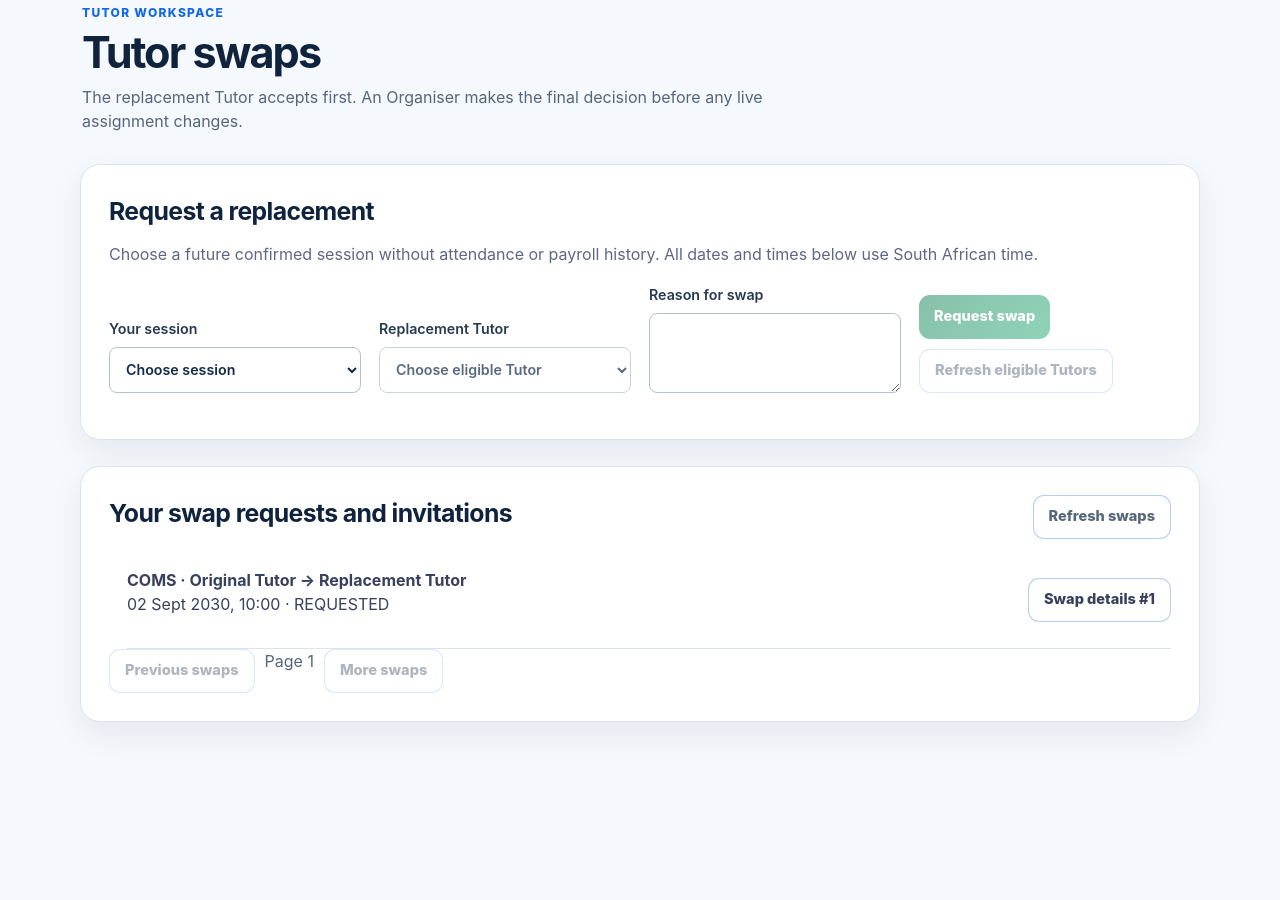
lets only the addressed replacement accept or decline and records the current version
Click the button "Swap details #1" at point(1100, 600), box left=1028, top=578, right=1171, bottom=622
(page scrolled)
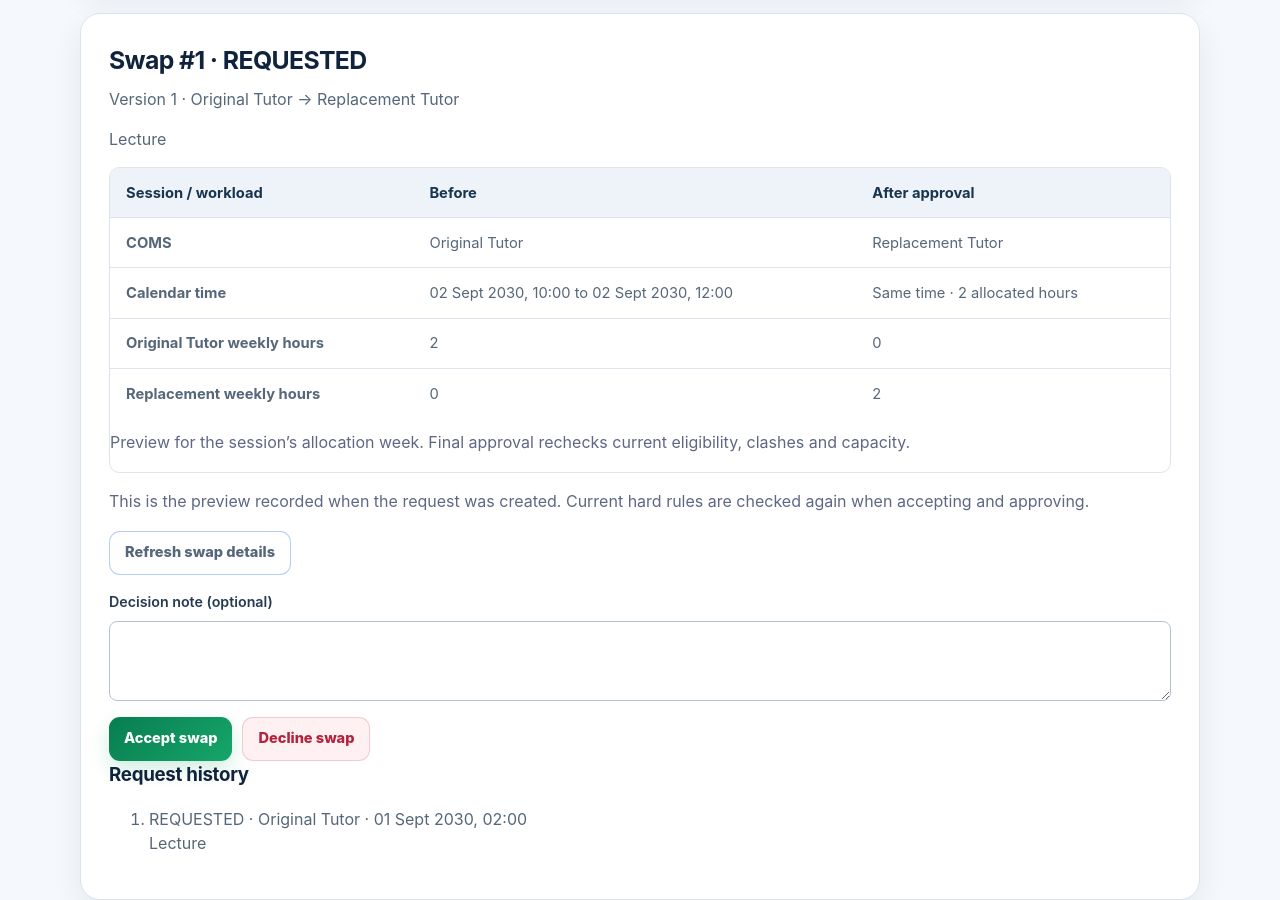
Now the element named "Swap details" is shown
Click the button "Accept swap" at point(171, 739), box left=109, top=717, right=232, bottom=761
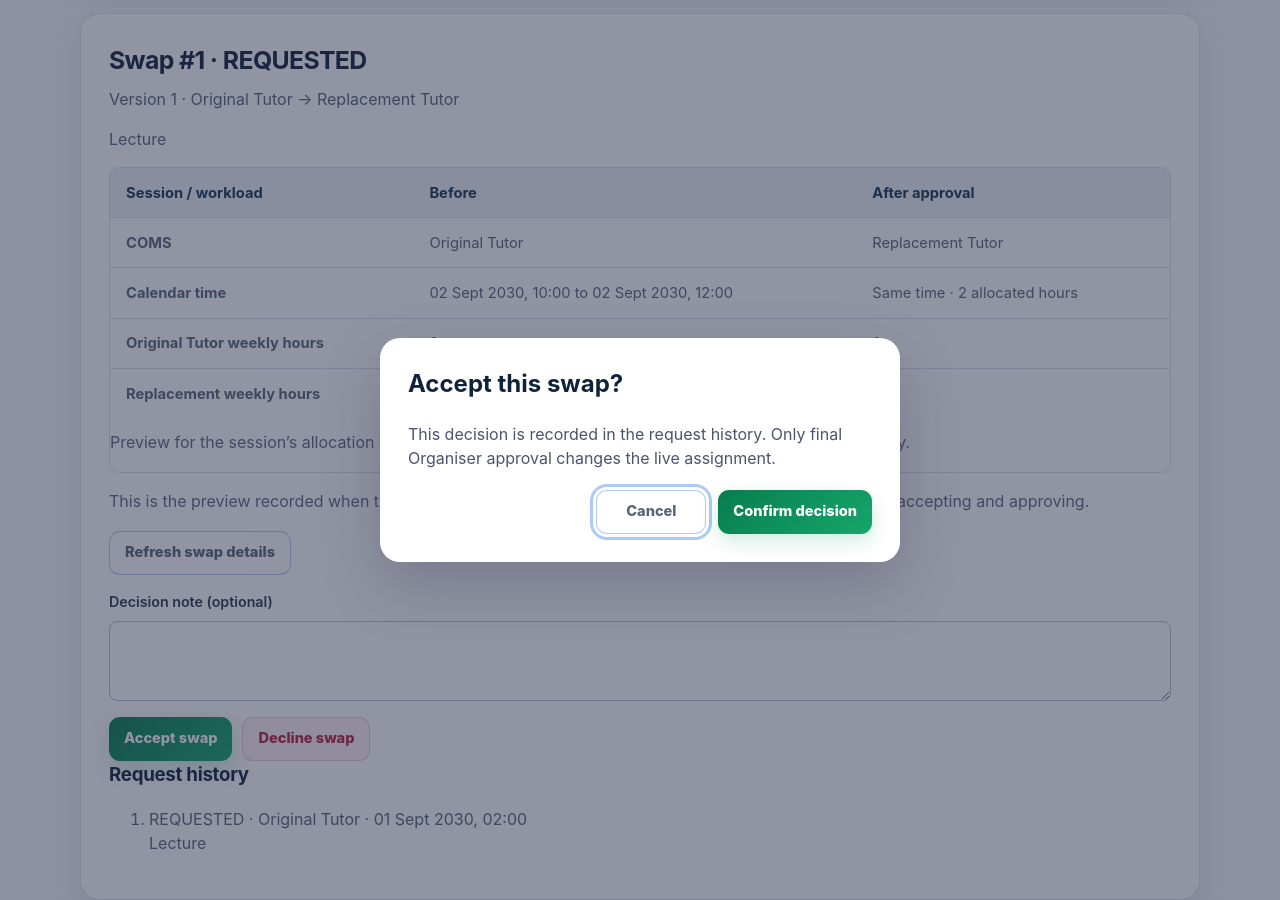
Click the button "Confirm decision" at point(795, 512), box left=718, top=490, right=872, bottom=534
(page scrolled)
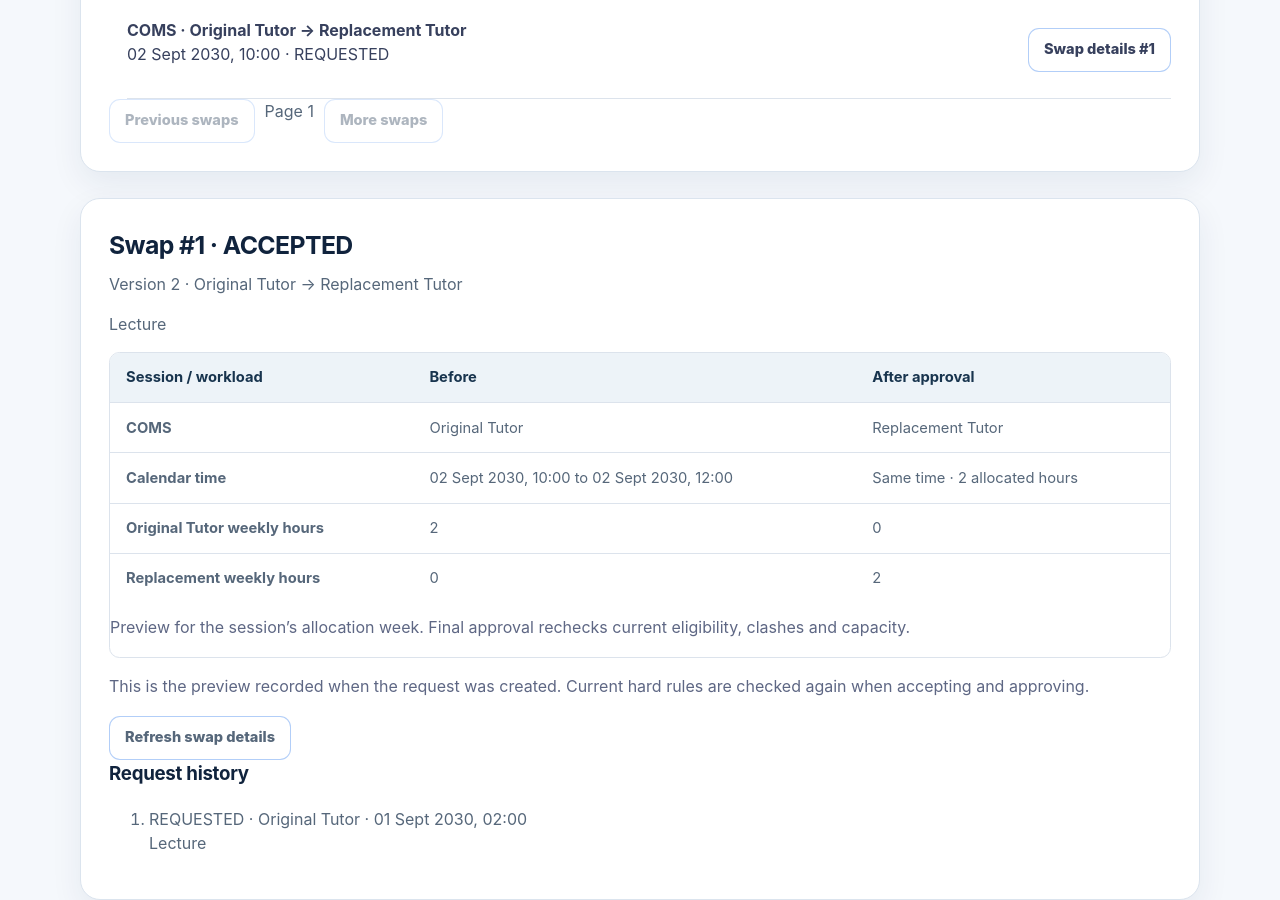
Now the heading "Swap #1 · ACCEPTED" is shown, box left=109, top=230, right=353, bottom=260
